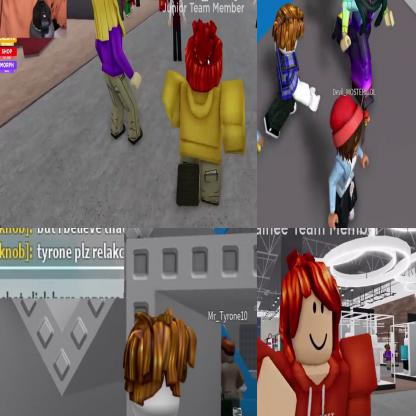Roblox-Avatar: (258, 250, 381, 416), (163, 19, 247, 207), (111, 309, 228, 416), (90, 1, 144, 147), (265, 4, 322, 140), (341, 1, 396, 111), (329, 95, 371, 228), (222, 336, 247, 416), (168, 1, 188, 64), (384, 344, 394, 372), (123, 1, 135, 20), (159, 1, 169, 14)
